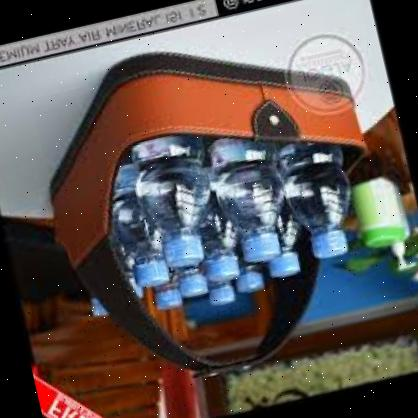bottle: (104, 84, 244, 284), (206, 118, 319, 266), (276, 111, 384, 263), (92, 170, 200, 296), (245, 234, 319, 300), (184, 226, 254, 292), (229, 252, 285, 320), (136, 268, 200, 323), (204, 262, 254, 316)
cap: (152, 226, 208, 272), (236, 227, 287, 267), (128, 252, 176, 294), (306, 223, 354, 262), (204, 250, 242, 288), (148, 286, 184, 316), (268, 252, 306, 279), (234, 272, 267, 300), (206, 284, 236, 308), (180, 279, 206, 303)
